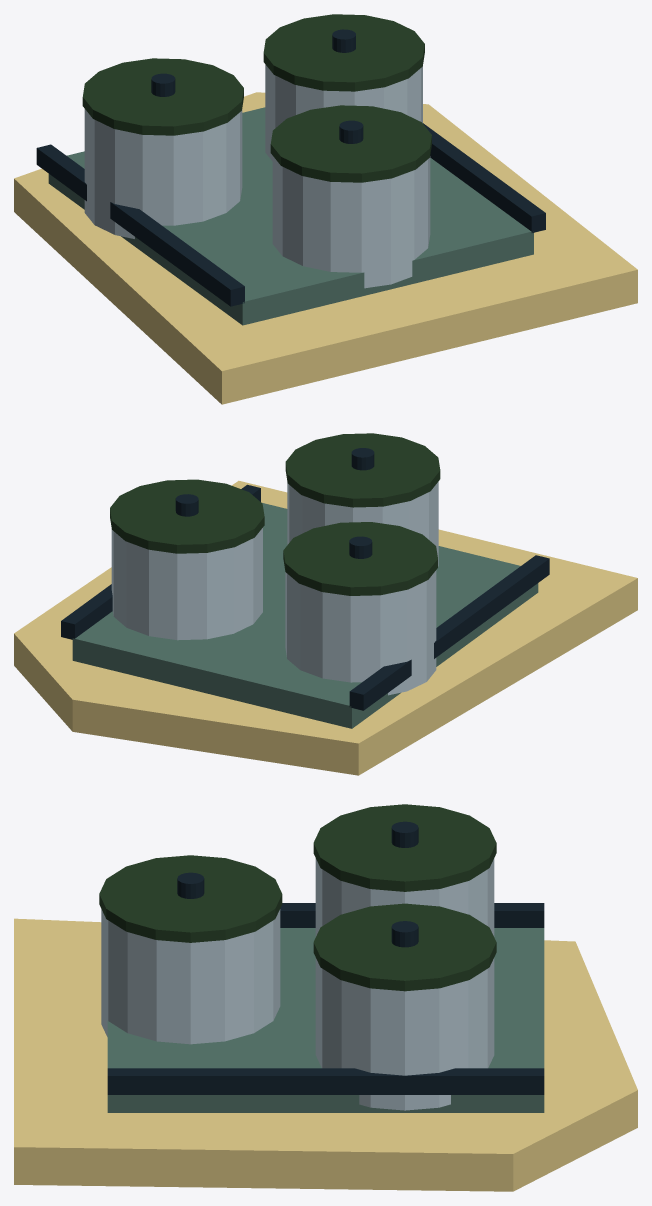
File: oil-depot.glb
The picture shows the model from 3 angles, top to bottom: view 1: azimuth 30°, elevation 25°; view 2: azimuth 150°, elevation 25°; view 3: azimuth 270°, elevation 25°; orthographic projection. The views are drawn at different scales.
Parts seen in each view (by area): view 1: oil-depot-oil-depot-geometry; view 2: oil-depot-oil-depot-geometry; view 3: oil-depot-oil-depot-geometry.
Part boxes in pixels (bbox=[...]): oil-depot-oil-depot-geometry: bbox=[14, 14, 637, 404]; oil-depot-oil-depot-geometry: bbox=[14, 433, 637, 775]; oil-depot-oil-depot-geometry: bbox=[14, 804, 637, 1191].
Bounding box in the file's own units: 2.68 × 1.02 × 3.
